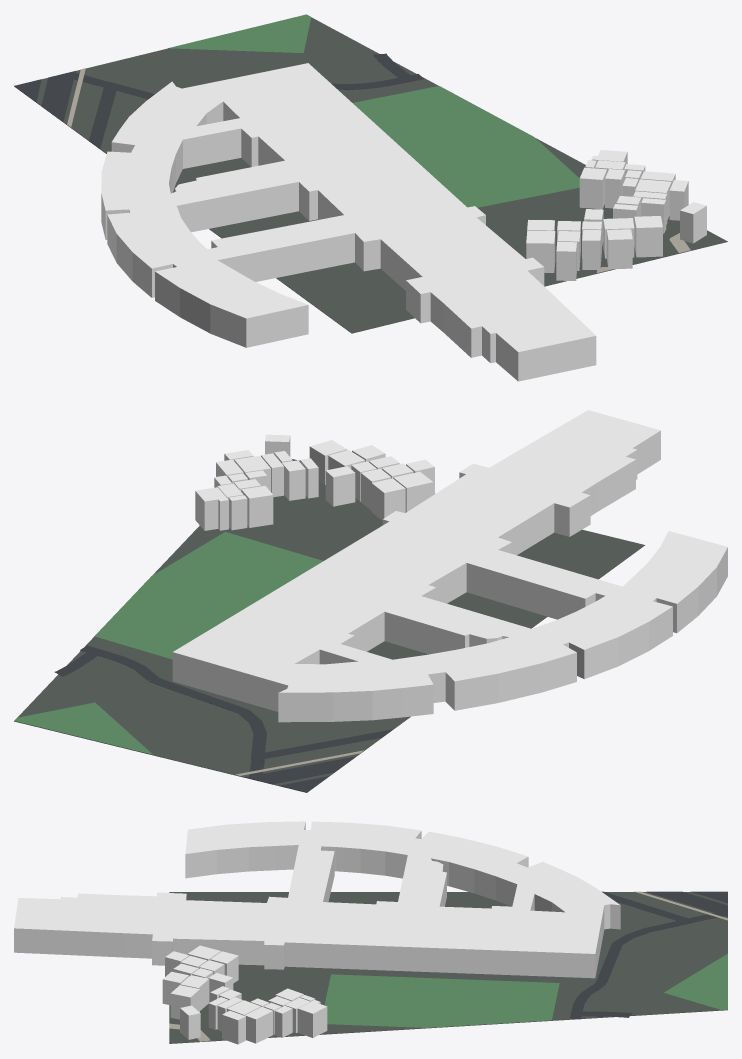
File: tile_008_008.glb
3 views of the same model, one above another, from view 1: azimuth 30°, elevation 25°; view 2: azimuth 150°, elevation 25°; view 3: azimuth 270°, elevation 25° (orthographic). The views are drawn at different scales.
Parts seen in each view (by area): view 1: tile_008_008_buildings_neutral, tile_008_008_ground, tile_008_008_open_spaces, tile_008_008_roads, tile_008_008_paths; view 2: tile_008_008_buildings_neutral, tile_008_008_ground, tile_008_008_open_spaces, tile_008_008_roads; view 3: tile_008_008_buildings_neutral, tile_008_008_ground, tile_008_008_open_spaces, tile_008_008_roads, tile_008_008_paths.
Boxes of the visible parts, box(x1,y1,x2,y2) form: tile_008_008_buildings_neutral: box(101, 63, 706, 381); tile_008_008_ground: box(14, 17, 727, 333); tile_008_008_open_spaces: box(168, 14, 579, 207); tile_008_008_roads: box(14, 53, 423, 148); tile_008_008_paths: box(67, 68, 690, 272); tile_008_008_buildings_neutral: box(172, 410, 727, 722); tile_008_008_ground: box(14, 459, 644, 792); tile_008_008_open_spaces: box(14, 532, 323, 754); tile_008_008_roads: box(54, 645, 392, 792); tile_008_008_buildings_neutral: box(14, 821, 620, 1044); tile_008_008_ground: box(169, 892, 727, 1043); tile_008_008_open_spaces: box(324, 953, 727, 1027); tile_008_008_roads: box(570, 891, 727, 1019); tile_008_008_paths: box(169, 891, 727, 1041).
Bounding box in the file's own units: 211 × 12.16 × 319.
